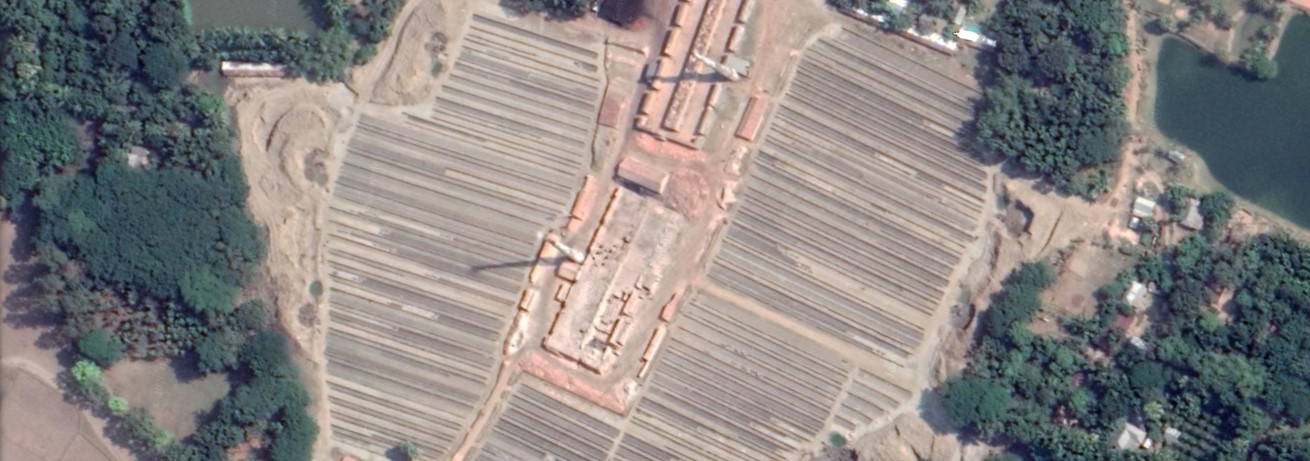kiln: (514, 195, 709, 391), (642, 3, 806, 170)
